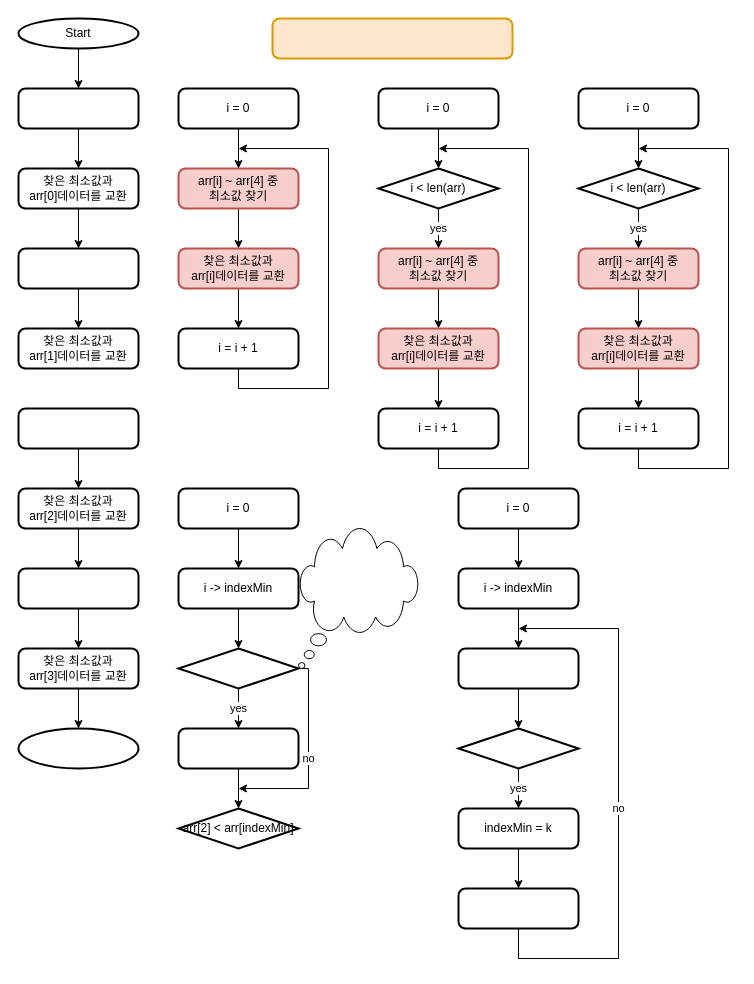
Some shapes in this 754 by 984 pixel diagram are drawn without their labels. The box of each missing label's shape, as (x1, y1, x2, y2) in pixels:
arr[0] ~ arr[4] 중 최소값 찾기: (17, 87, 139, 129)
arr[1] < arr[indexMin]: (177, 647, 299, 689)
arr[1] ~ arr[4] 중 최소값 찾기: (17, 247, 139, 289)
arr[2] ~ arr[4] 중 최소값 찾기: (17, 407, 139, 449)
arr[3] ~ arr[4] 중 최소값 찾기: (17, 567, 139, 609)
arr[k] < arr[indexMin]: (457, 727, 579, 769)
End: (17, 727, 139, 769)
indexMin = 1: (177, 727, 299, 769)
k += 1: (457, 887, 579, 929)
k = 1: (457, 647, 579, 689)
가장 작은 요소를 찾아 임시 변수에 반복하여 담는다: (298, 528, 418, 668)
정렬 - 단순 탐색법: (271, 17, 513, 59)
